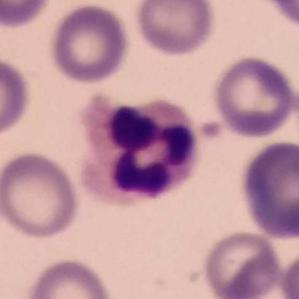Neutrophil: (73, 91, 206, 212)
Platelets: (197, 117, 226, 145)
RBC: (0, 148, 83, 241), (209, 53, 297, 139), (46, 2, 133, 85), (236, 138, 299, 241), (200, 227, 284, 298), (132, 0, 218, 58), (21, 255, 116, 299), (0, 55, 34, 138), (0, 0, 54, 29), (278, 247, 298, 299), (263, 0, 298, 29)
